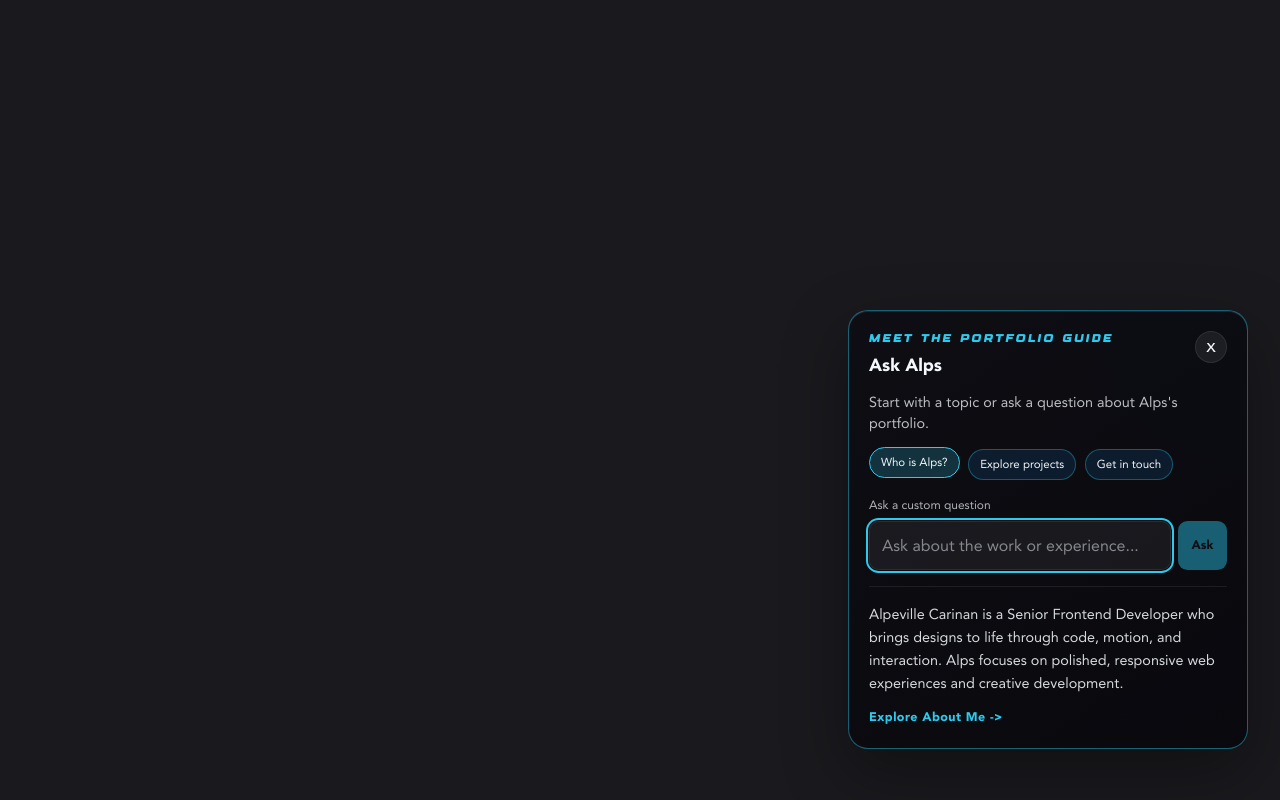
Test: PortfolioAssistant › shows the answer returned by the AI endpoint
Step 1. Type "What projects has Alps built?" into the field labelled "Ask a custom question" → (1020, 546), box x1=869 y1=522 x2=1171 y2=570
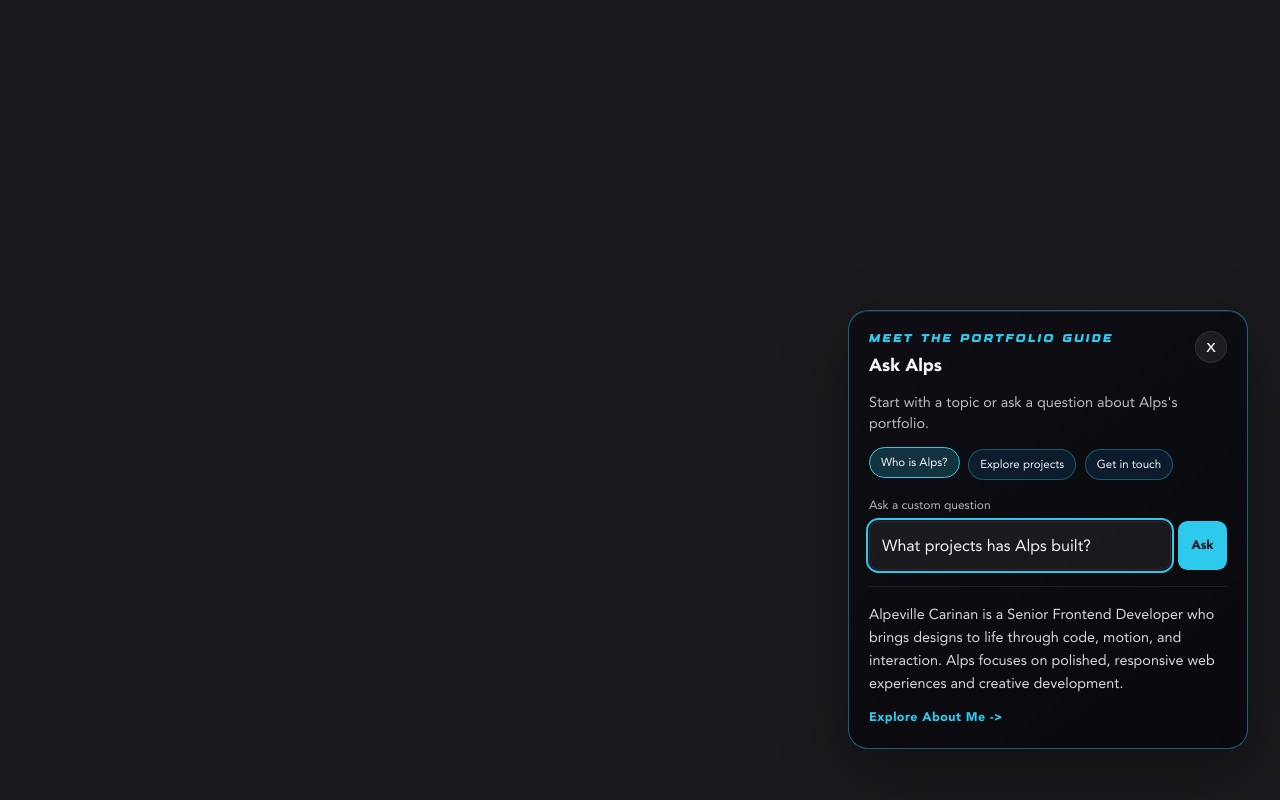
Step 2. Click the button "Ask" → (1202, 546), box x1=1178 y1=522 x2=1227 y2=570
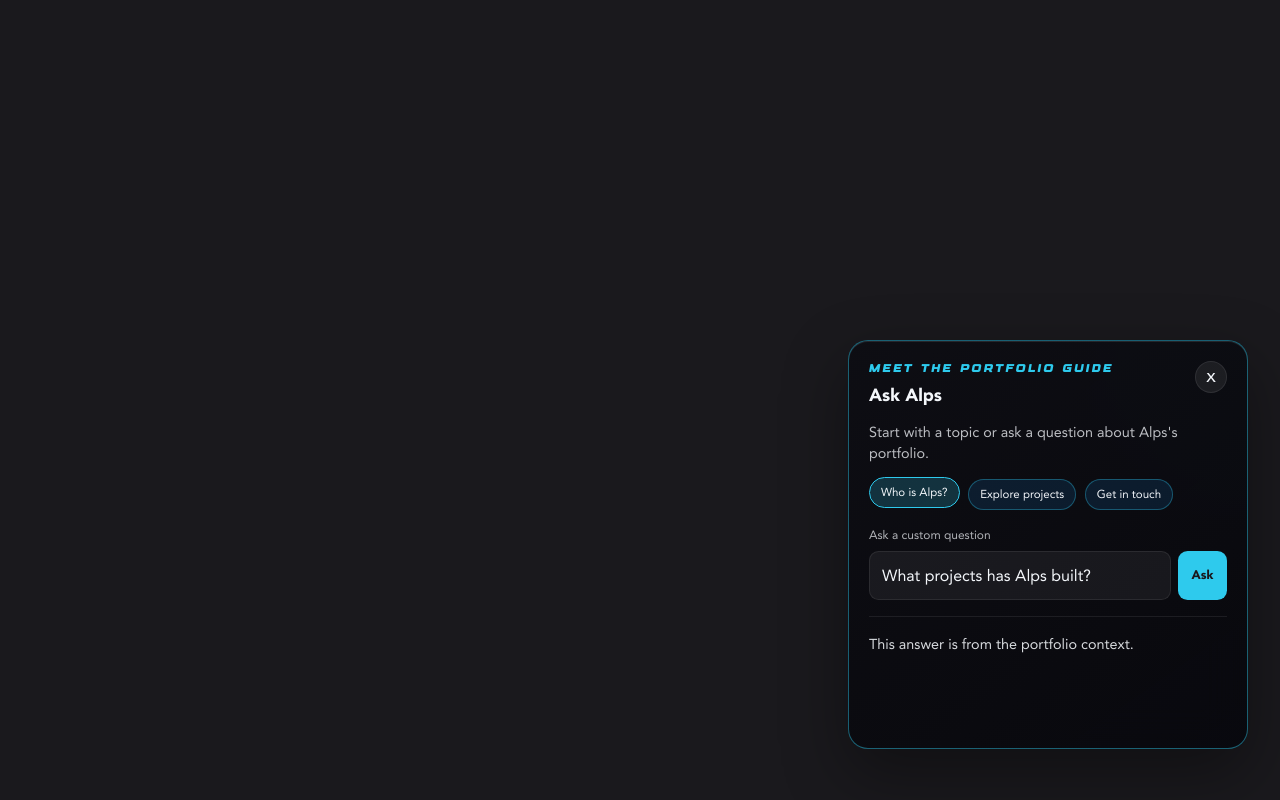
Expected: the text "This answer is from the portfolio context." is shown, x1=869 y1=635 x2=1134 y2=654
